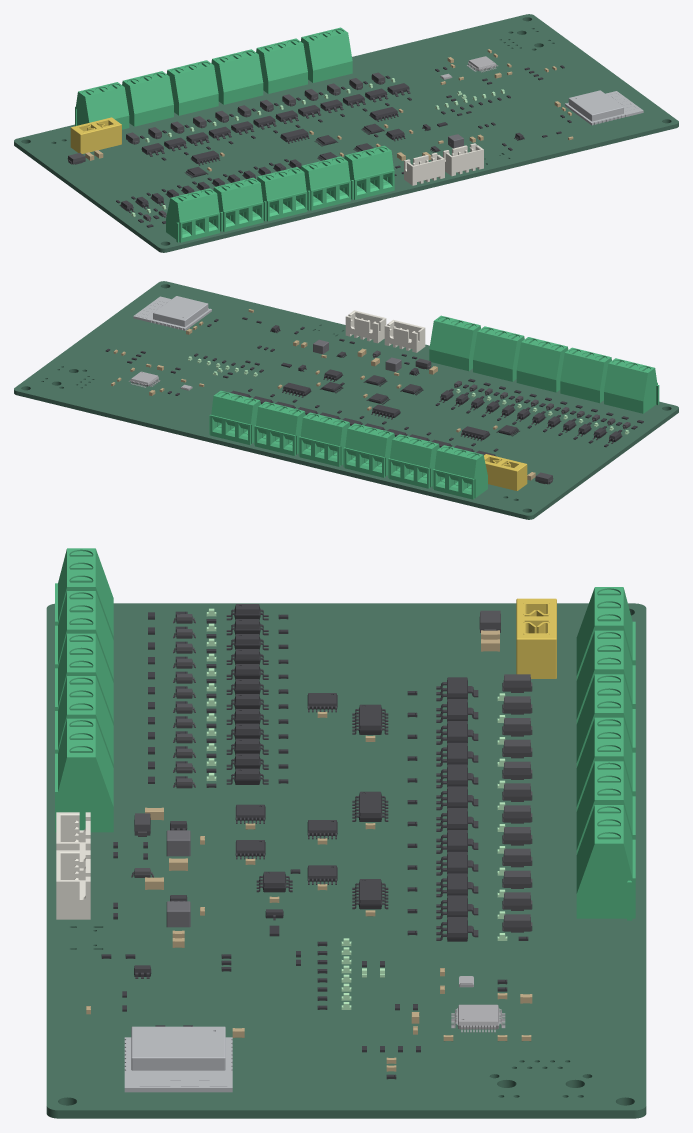
The model's file is AP_PLC_C24.glb.
The picture shows the model from 3 angles, top to bottom: view 1: azimuth 30°, elevation 25°; view 2: azimuth 150°, elevation 25°; view 3: azimuth 270°, elevation 25°; orthographic projection. The views are drawn at different scales.
Visible parts, largest first — view 1: =>[0:1:1:27], J3, J11, J10, J13, J12, J9, J5, J6, J7, J4, J8 (+4 smaller); view 2: =>[0:1:1:27], J3, J8, J5, J4, J7, J6, J11, J12, J9, J13, J10 (+4 smaller); view 3: =>[0:1:1:27], U3, J13, J7, F1, J11, J9, J8, J10, J12, J4, J3 (+8 smaller).
Part boxes in pixels (bbox=[...]): =>[0:1:1:27]: bbox=[14, 14, 678, 252]; J3: bbox=[166, 188, 219, 242]; J11: bbox=[211, 49, 263, 104]; J10: bbox=[166, 60, 218, 115]; J13: bbox=[300, 27, 352, 82]; J12: bbox=[256, 38, 307, 93]; J9: bbox=[122, 71, 173, 126]; J5: bbox=[257, 167, 307, 221]; J6: bbox=[300, 156, 350, 210]; J7: bbox=[344, 145, 394, 199]; J4: bbox=[213, 177, 263, 231]; J8: bbox=[75, 82, 129, 129]; =>[0:1:1:27]: bbox=[14, 281, 678, 519]; J3: bbox=[604, 358, 659, 413]; J8: bbox=[432, 445, 487, 499]; J5: bbox=[516, 337, 568, 392]; J4: bbox=[560, 347, 611, 403]; J7: bbox=[429, 315, 480, 371]; J6: bbox=[473, 326, 524, 381]; J11: bbox=[298, 412, 350, 466]; J12: bbox=[254, 401, 305, 455]; J9: bbox=[388, 434, 439, 488]; J13: bbox=[209, 390, 260, 444]; J10: bbox=[343, 423, 394, 477]; =>[0:1:1:27]: bbox=[46, 603, 646, 1118]; U3: bbox=[124, 1026, 232, 1092]; J13: bbox=[576, 805, 635, 920]; J7: bbox=[55, 718, 113, 832]; F1: bbox=[516, 598, 556, 678]; J11: bbox=[576, 717, 635, 811]; J9: bbox=[576, 630, 635, 723]; J8: bbox=[576, 587, 635, 680]; J10: bbox=[576, 674, 635, 767]; J12: bbox=[576, 761, 635, 854]; J4: bbox=[55, 591, 113, 682]; J3: bbox=[55, 548, 113, 639].
Size of the model in its own units: 0.2 by 0.0173 by 0.1.
